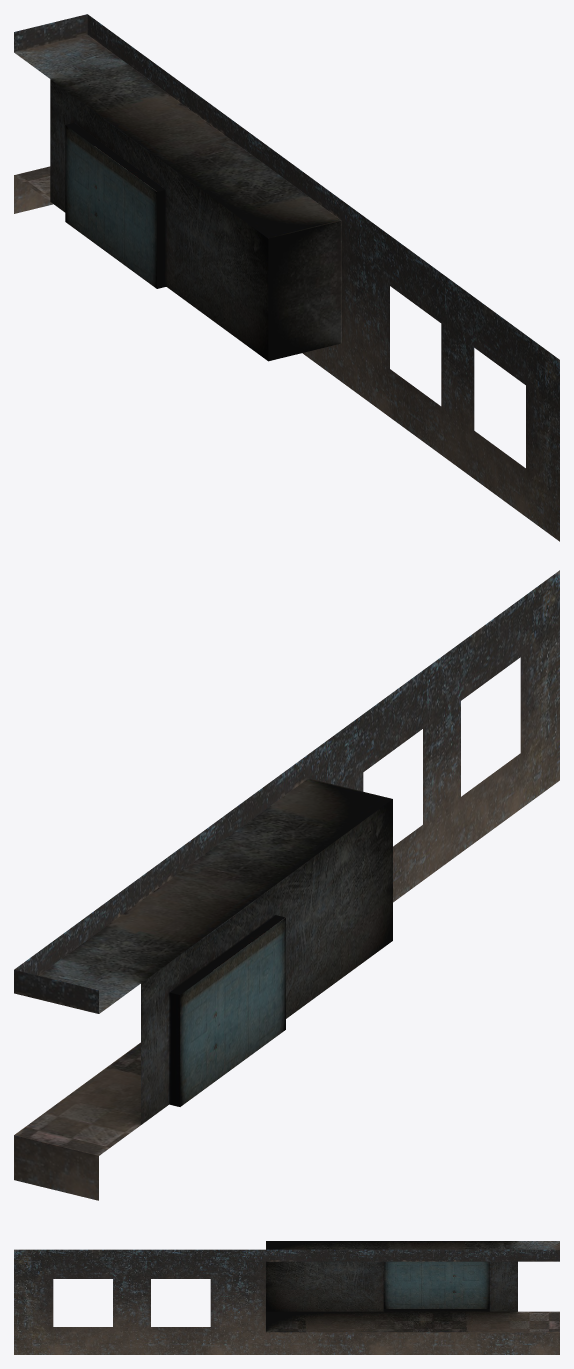
The model's file is Wall_01.FBX.
The picture shows the model from 3 angles, top to bottom: view 1: azimuth 30°, elevation 25°; view 2: azimuth 150°, elevation 25°; view 3: azimuth 270°, elevation 25°; orthographic projection. The views are drawn at different scales.
Visible parts, largest first — view 1: Wall_01; view 2: Wall_01; view 3: Wall_01.
Boxes of the visible parts, left/top/right/bottom form: Wall_01: left=14, top=14, right=559, bottom=541; Wall_01: left=14, top=570, right=559, bottom=1200; Wall_01: left=14, top=1241, right=559, bottom=1354.
Size of the model in its own units: 244 by 511 by 2405.
